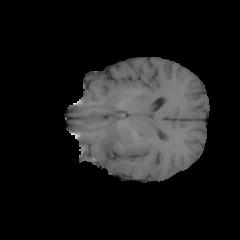glioma: (92, 112, 150, 172)
